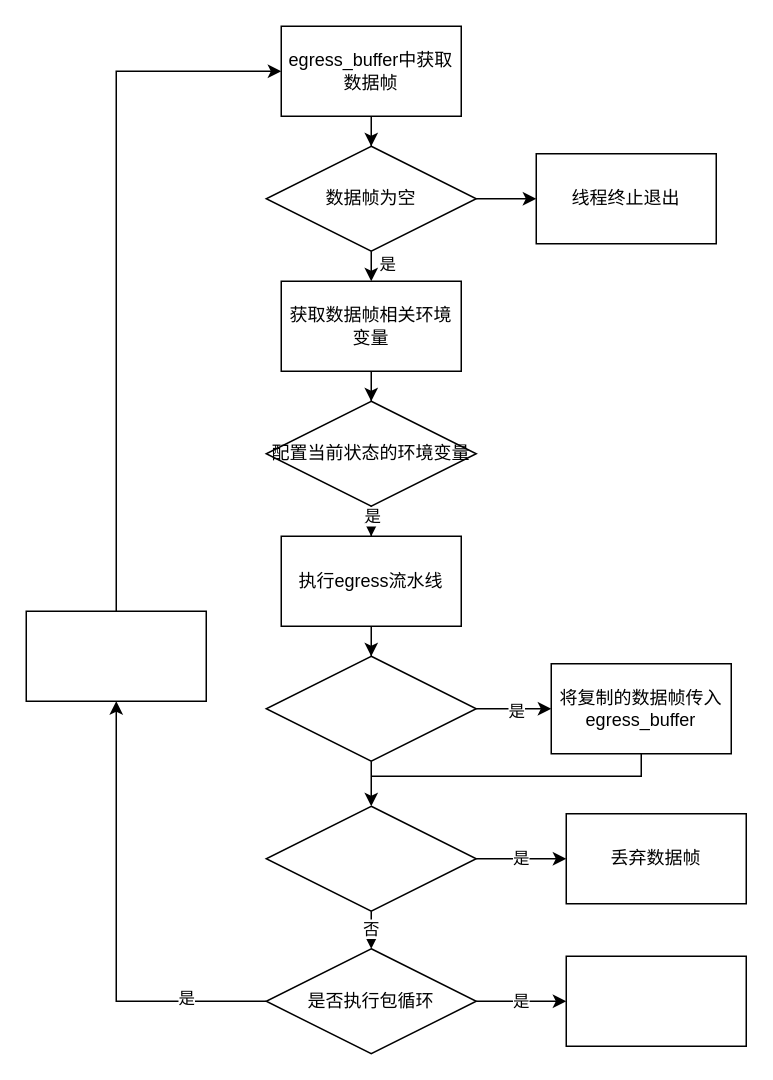
Image size: 773x1080. Some labels were removed from this diagram. Here are the shapes that lost their labels. From the top down, the centre of each, then its label:
At pixel 115 655: "将数据帧传入ingress_buffer".
At pixel 370 708: "是否执行包复制".
At pixel 370 858: "出口是否为丢弃出口".
At pixel 655 1000: "将数据帧传入output_buffer".
